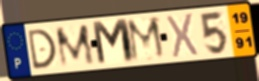5: (198, 9, 230, 55)
D: (26, 27, 59, 72)
M: (90, 17, 137, 68), (124, 15, 168, 64), (53, 22, 97, 70)
X: (165, 11, 200, 59)
